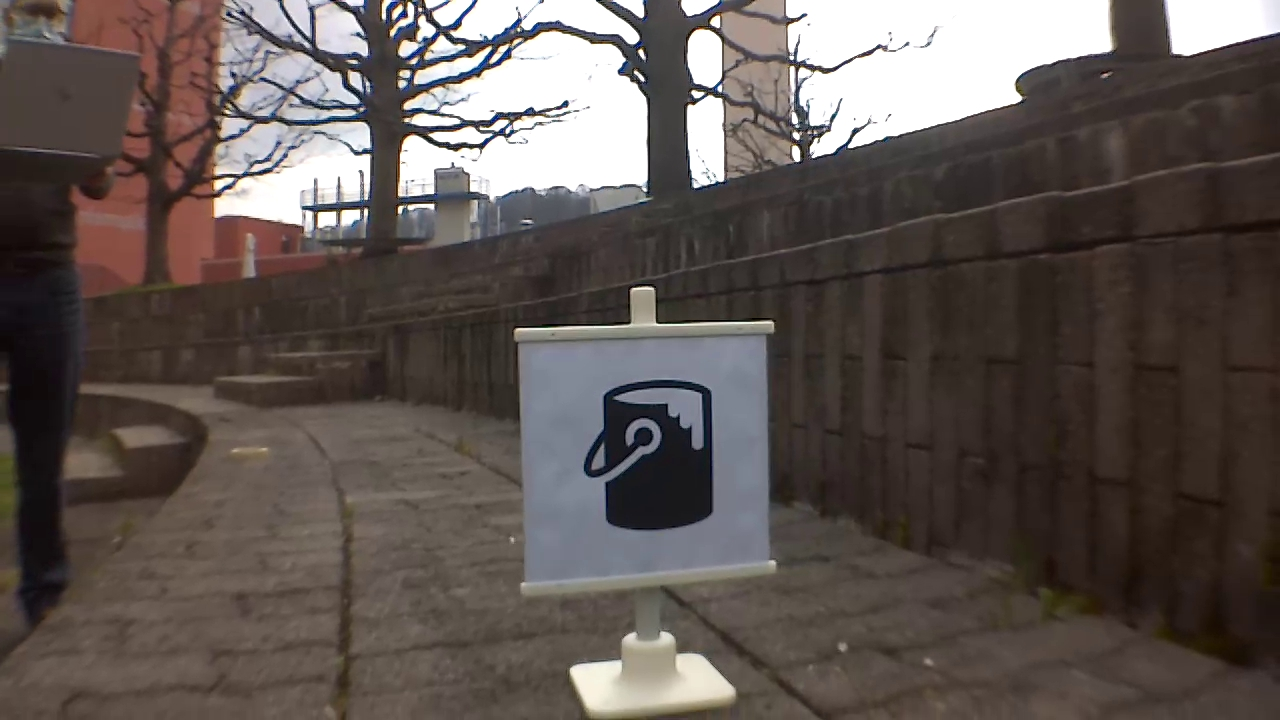bucket: (583, 377, 715, 534)
